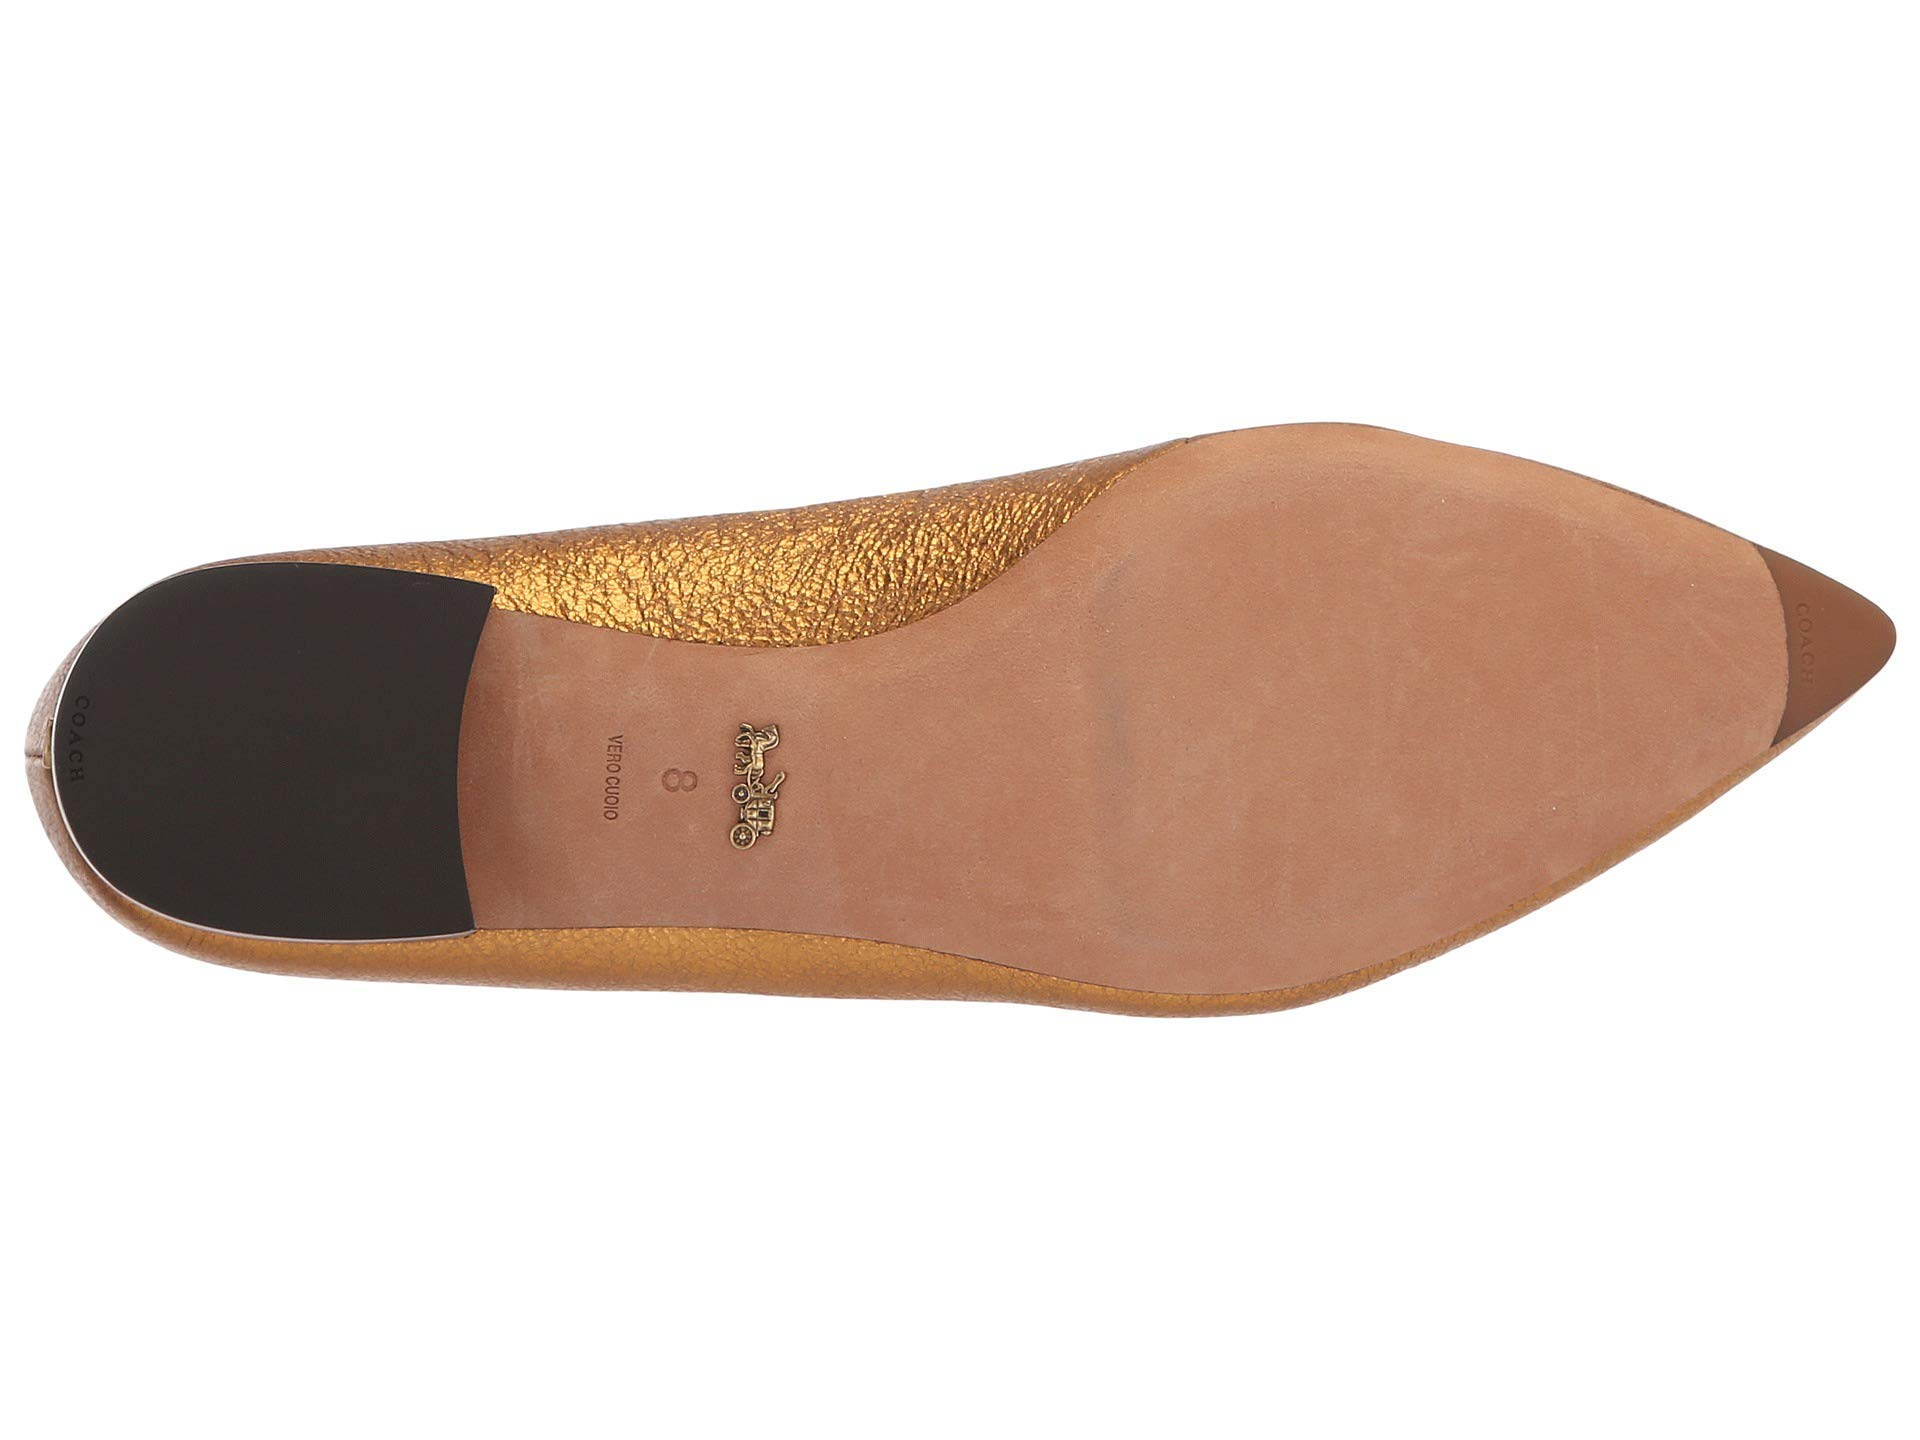exclude: (455, 588, 1036, 980)
text: (60, 691, 94, 791)
